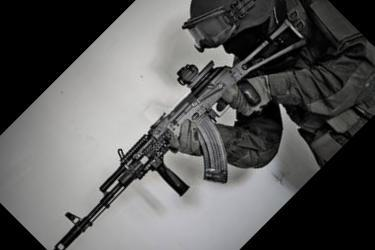larga: (53, 20, 306, 250)
